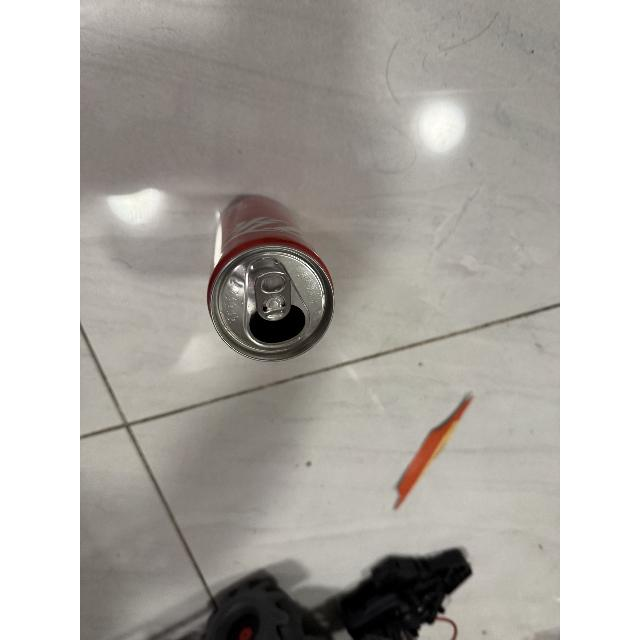coca-cola: (202, 191, 338, 369)
